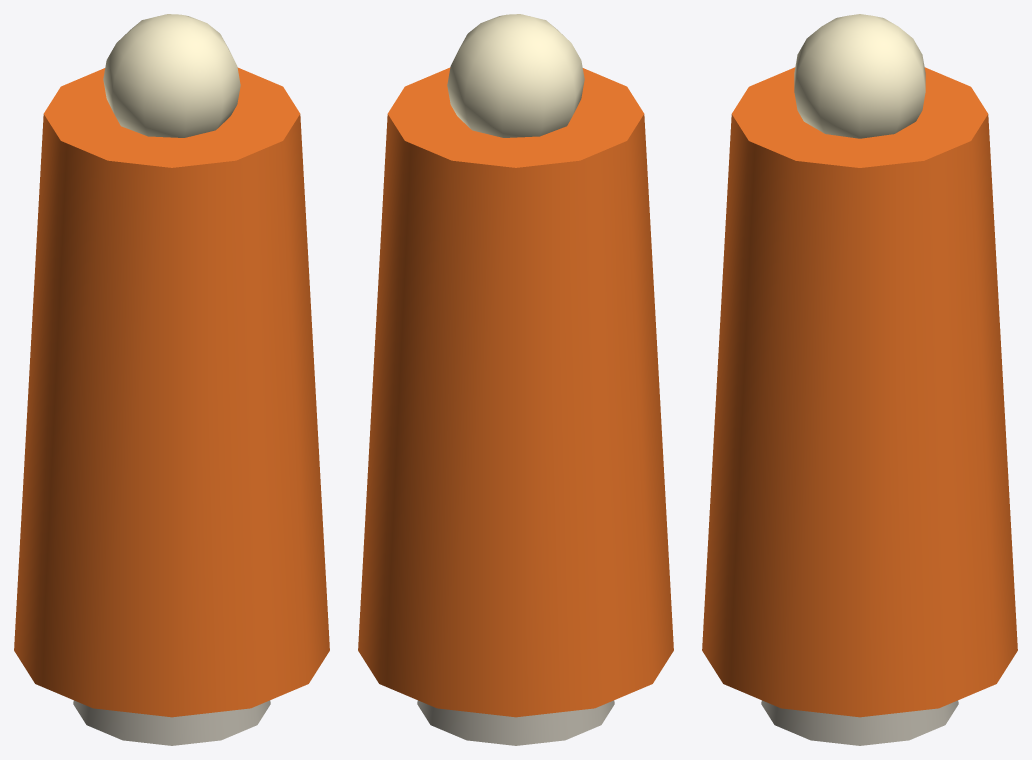
The model's file is floating-buoy.glb.
3 renders of one model, left to right at view 1: azimuth 30°, elevation 25°; view 2: azimuth 150°, elevation 25°; view 3: azimuth 270°, elevation 25°, orthographic.
Parts seen in each view (by area): view 1: BuoyFloat, BuoyLight, BuoyBase; view 2: BuoyFloat, BuoyLight, BuoyBase; view 3: BuoyFloat, BuoyLight, BuoyBase.
Part boxes in pixels (<box>): BuoyFloat: <box>14,67,329,717</box>; BuoyLight: <box>103,14,240,137</box>; BuoyBase: <box>73,700,270,745</box>; BuoyFloat: <box>358,67,673,717</box>; BuoyLight: <box>447,14,584,137</box>; BuoyBase: <box>417,700,614,745</box>; BuoyFloat: <box>702,67,1017,717</box>; BuoyLight: <box>794,14,925,138</box>; BuoyBase: <box>761,700,958,745</box>.
Size of the model in its own units: 0.64 by 1.53 by 0.64.
